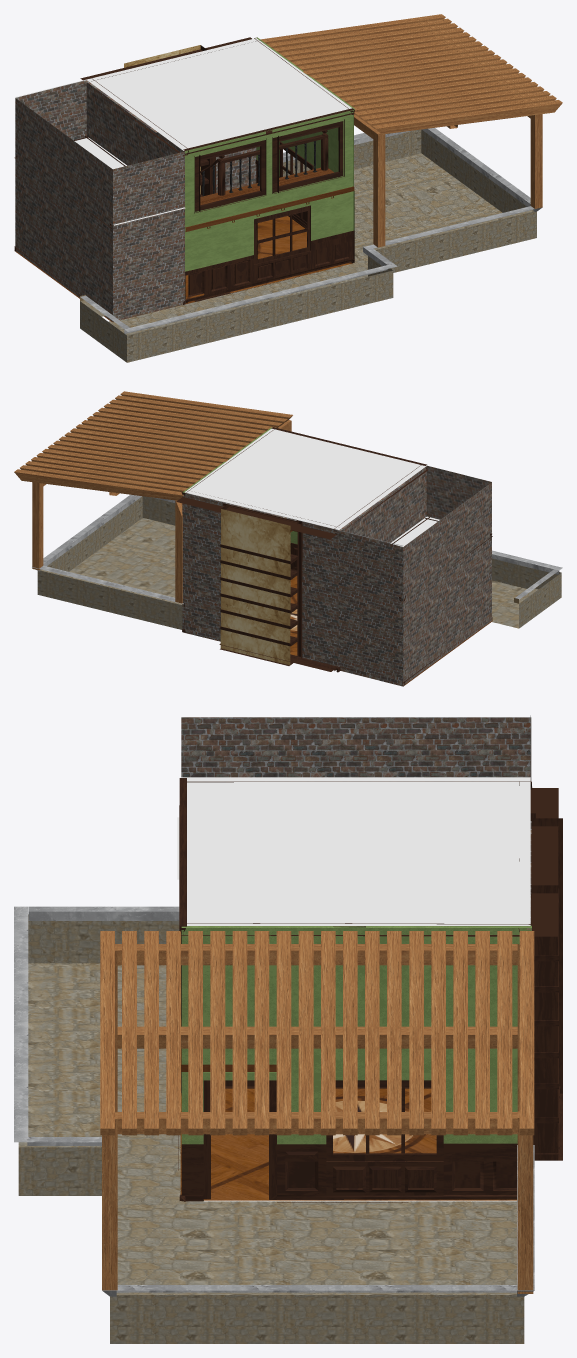
File: mdl_hub_CentralHub.gltf
3 views of the same model, one above another, from view 1: azimuth 30°, elevation 25°; view 2: azimuth 150°, elevation 25°; view 3: azimuth 270°, elevation 25° (orthographic). The views are drawn at different scales.
Visible parts, largest first — view 1: Wall Textures Bake.002, Plane.001, Cube.002, Baked Ceiling, Wall Textures Bake.001, Wall Textures Bake.011, Plane, Cube.001, Wall Textures Bake.005, Wall Textures Bake.003, Wall Textures Bake.016, Wall Textures Bake.018 (+6 smaller); view 2: Wall Textures Bake.002, Cube.002, Plane.001, Baked Ceiling, Wall Textures Bake.017, Map Shelf, Plane, Cube.001, Wall Textures Bake.057, Wall Textures Bake.006, Wall Textures Bake.023, Wall Textures Bake.005 (+2 smaller); view 3: Plane.001, Cube.002, Baked Ceiling, Wall Textures Bake.002, Wall Textures Bake.001, Wall Textures Bake.035, Plane, Cube.003, Wall Textures Bake.005, Cube.001, Wall Textures Bake.008, Wall Textures Bake.057 (+5 smaller).
Part boxes in pixels (<box>): Wall Textures Bake.002: <box>15,80,184,321</box>; Plane.001: <box>80,129,536,362</box>; Cube.002: <box>260,14,562,134</box>; Baked Ceiling: <box>16,38,351,225</box>; Wall Textures Bake.001: <box>185,37,355,271</box>; Wall Textures Bake.011: <box>185,205,354,302</box>; Plane: <box>80,128,542,333</box>; Cube.001: <box>373,114,542,247</box>; Wall Textures Bake.005: <box>14,216,352,322</box>; Wall Textures Bake.003: <box>185,167,354,231</box>; Wall Textures Bake.016: <box>194,138,266,213</box>; Wall Textures Bake.018: <box>272,119,344,193</box>; Wall Textures Bake.002: <box>295,465,491,686</box>; Cube.002: <box>14,391,292,500</box>; Plane.001: <box>37,496,561,629</box>; Baked Ceiling: <box>184,428,492,546</box>; Wall Textures Bake.017: <box>182,483,402,666</box>; Map Shelf: <box>220,509,290,665</box>; Plane: <box>32,494,562,603</box>; Cube.001: <box>32,420,291,603</box>; Wall Textures Bake.057: <box>176,497,336,539</box>; Wall Textures Bake.006: <box>297,520,303,656</box>; Wall Textures Bake.023: <box>182,428,492,601</box>; Wall Textures Bake.005: <box>290,576,492,685</box>; Plane.001: <box>18,914,524,1343</box>; Cube.002: <box>100,931,534,1135</box>; Baked Ceiling: <box>177,715,530,925</box>; Wall Textures Bake.002: <box>181,717,531,821</box>; Wall Textures Bake.001: <box>181,925,531,1144</box>; Wall Textures Bake.035: <box>182,1080,517,1201</box>; Plane: <box>14,906,534,1296</box>; Cube.003: <box>117,944,517,1134</box>; Wall Textures Bake.005: <box>180,1088,516,1200</box>; Cube.001: <box>102,944,533,1293</box>; Wall Textures Bake.008: <box>530,885,558,1160</box>; Wall Textures Bake.057: <box>518,782,558,936</box>.
Bounding box in the file's own units: 32.35 × 10.46 × 18.72.
Materials: 11 (10 with a texture image).
